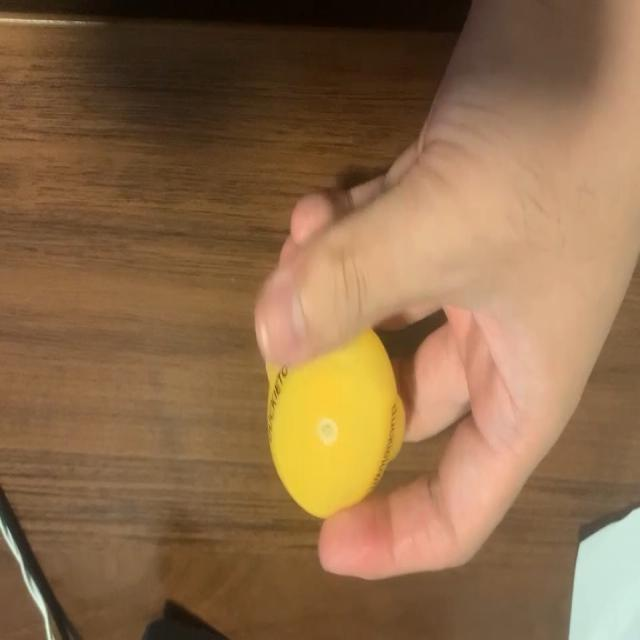rubber-duck: (265, 329, 403, 516)
